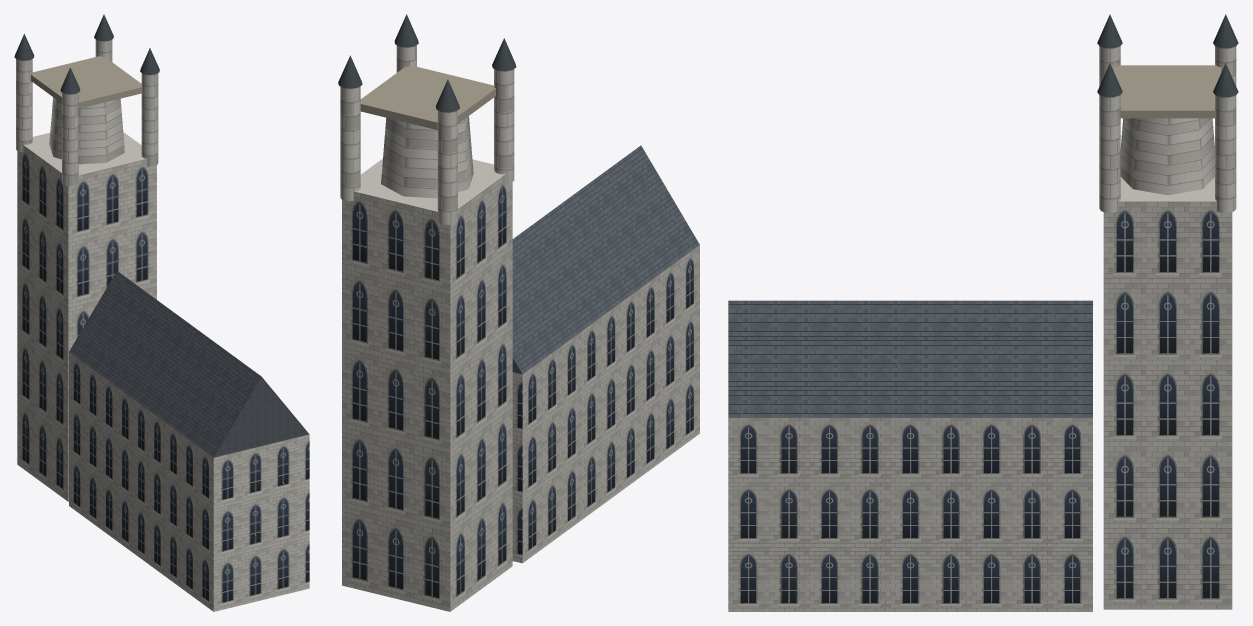
The model's file is baafs.obj.
3 renders of one model, left to right at view 1: azimuth 30°, elevation 25°; view 2: azimuth 150°, elevation 25°; view 3: azimuth 270°, elevation 25°, orthographic. The views are drawn at different scales.
Parts seen in each view (by area): view 1: part12, part1, part13, part10, part11, part8, part4, part2; view 2: part1, part12, part13, part10, part11, part2, part6, part4; view 3: part12, part1, part13, part10, part11, part6, part8.
Boxes of the visible parts, bbox=[...] form: part12: bbox=[69, 352, 309, 611]; part1: bbox=[17, 132, 156, 501]; part13: bbox=[69, 271, 308, 457]; part10: bbox=[49, 97, 124, 164]; part11: bbox=[31, 56, 141, 108]; part8: bbox=[141, 73, 158, 166]; part4: bbox=[62, 92, 78, 186]; part2: bbox=[16, 59, 32, 152]; part1: bbox=[342, 158, 512, 611]; part12: bbox=[512, 245, 699, 563]; part13: bbox=[512, 145, 699, 374]; part10: bbox=[381, 116, 473, 198]; part11: bbox=[360, 65, 495, 129]; part2: bbox=[437, 110, 457, 224]; part6: bbox=[340, 86, 360, 201]; part4: bbox=[494, 69, 514, 183]; part12: bbox=[728, 417, 1092, 611]; part1: bbox=[1103, 177, 1232, 609]; part13: bbox=[728, 300, 1092, 417]; part10: bbox=[1120, 118, 1214, 195]; part11: bbox=[1114, 65, 1221, 118]; part6: bbox=[1215, 95, 1236, 212]; part8: bbox=[1099, 95, 1120, 212].
Bounding box in the file's own units: 13.08 × 56 × 47.6.
Materials: 5 (3 with a texture image).
